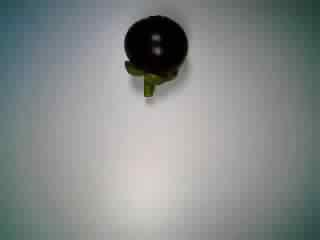mangosteen: (115, 14, 187, 98)
